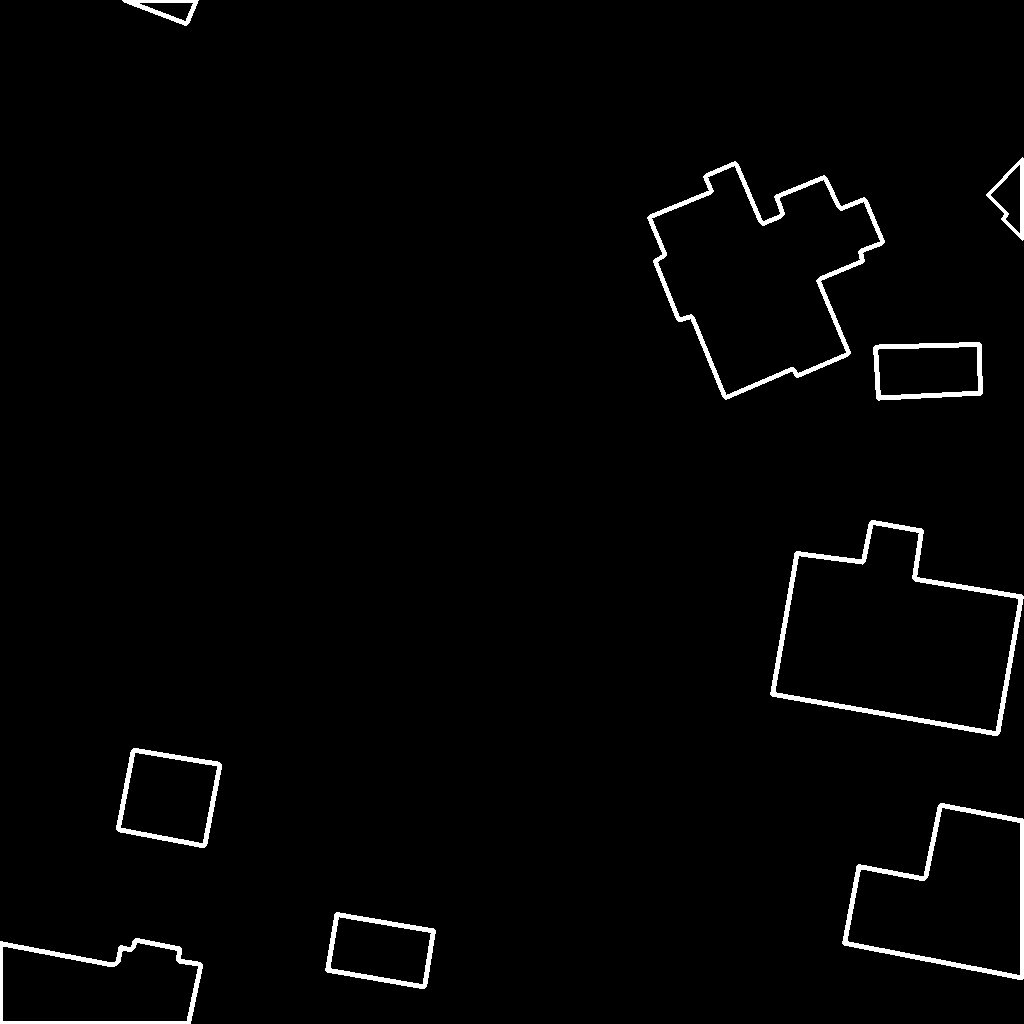building: (649, 163, 884, 399), (772, 522, 1023, 735), (844, 805, 1024, 979), (0, 940, 202, 1024), (118, 750, 221, 847), (327, 914, 435, 988), (875, 344, 982, 399), (988, 159, 1024, 240), (123, 0, 198, 25), (292, 1022, 298, 1024)
